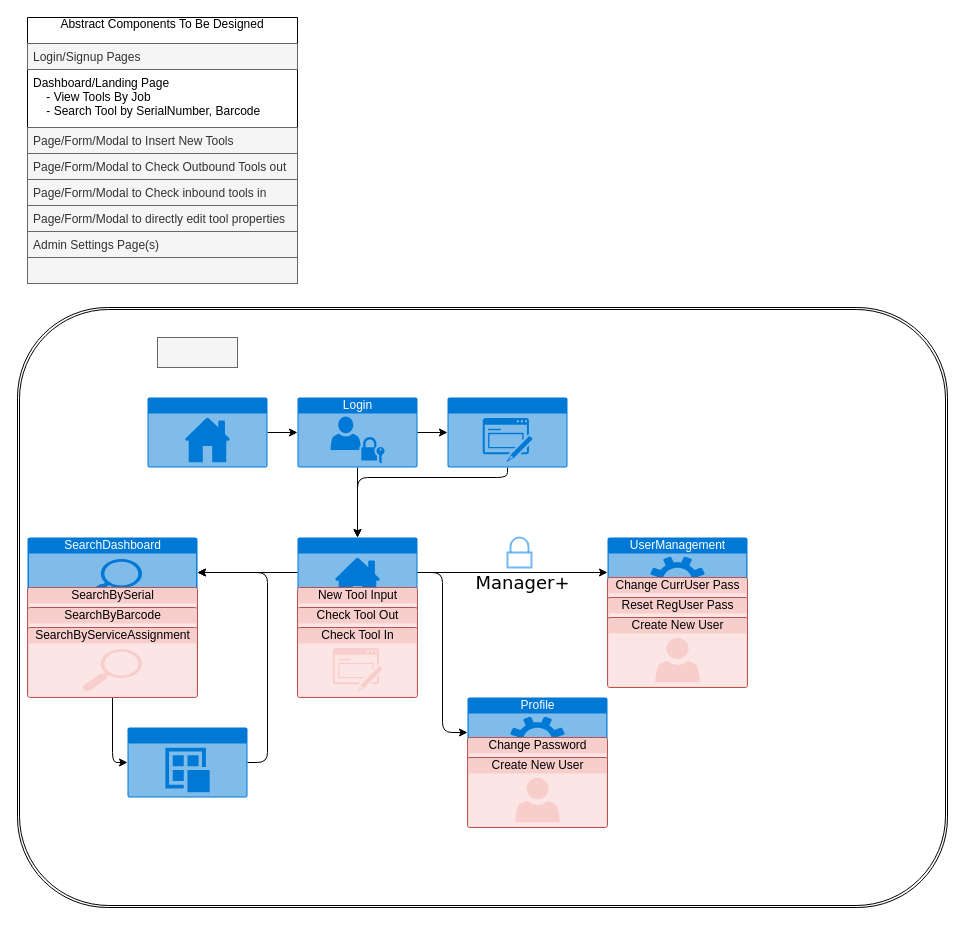
Image size: 965x925. Some labels were removed from this diagram. Here are the shapes that lost their labels. From the top down, the centre of each, then its label:
At (197,352): "Blue = Page Red = Modal".
At (207,432): "Root Domain".
At (507,432): "Sign Up".
At (357,572): "ToolDashboard".
At (187,762): "Result".
